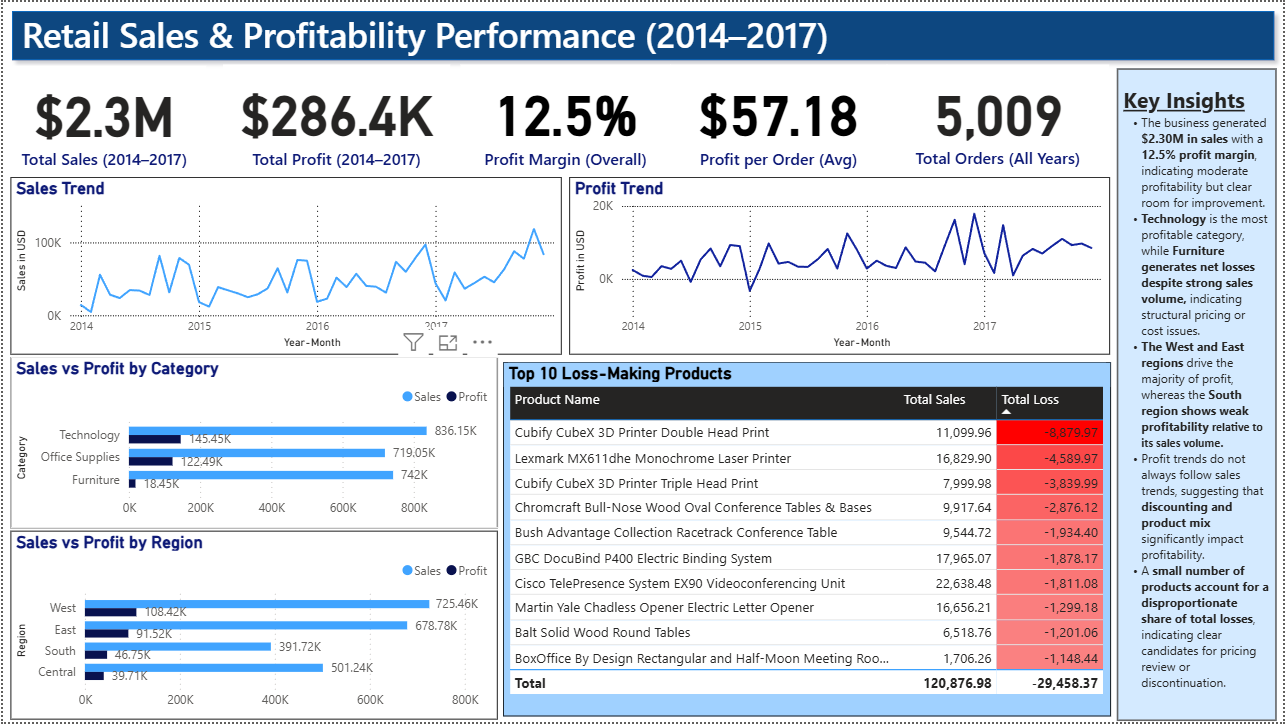

What the dashboard file says about the page in this screenshot:
{"tool":"powerbi","page":{"name":"Page 1","canvas":[1280,720],"ordinal":0},"visuals":[{"type":"shape","box":[0,0,1280.3,67.3],"z":0},{"type":"card","title":"Total Sales (USD)","fields":{"Values":["sales.Total Sales"]},"box":[0,63.6,203,110.1],"z":1000},{"type":"card","fields":{"Values":["sales.Order Count"]},"box":[884.1,62.4,222.6,110.1],"z":2000},{"type":"card","fields":{"Values":["sales.Profit Margin %"]},"box":[457.3,62.4,210.3,111.3],"z":3000},{"type":"card","fields":{"Values":["sales.Total Profit"]},"box":[220.1,62.4,227.4,111.3],"z":4000},{"type":"lineChart","title":"Sales Trend","fields":{"Category":["monthly_performance.order_month"],"Y":["Sum(monthly_performance.total_sales)"]},"box":[7.3,174.9,551.5,177.3],"z":5000},{"type":"clusteredBarChart","title":"Sales vs Profit by Category","fields":{"Category":["sales.category"],"Y":["sales.Total Sales","sales.Total Profit"]},"box":[6.9,355.6,487.5,170.8],"z":6000},{"type":"clusteredBarChart","title":"Sales vs Profit by Region","fields":{"Category":["sales.region"],"Y":["sales.Total Sales","sales.Total Profit"]},"box":[6.9,529.2,487.5,188.9],"z":7000},{"type":"tableEx","title":"Top 10 Loss-Making Products ","fields":{"Values":["sales.product_name","sales.Total Sales","sales.Total Profit"]},"box":[500,359.7,608.3,354.2],"z":8000},{"type":"textbox","box":[1113.9,66.7,159.7,652.8],"z":9000},{"type":"lineChart","title":"Profit Trend","fields":{"Category":["monthly_performance.order_month"],"Y":["Sum(monthly_performance.total_profit)"]},"box":[566.2,174.9,540.5,177.3],"z":10000},{"type":"card","fields":{"Values":["monthly_performance.Profit per Order"]},"box":[667.7,62.4,216.4,111.3],"z":10001}]}

Visuals, with their boxes in screenshot pixels (x1, y1, x2, y2), scaled from the page's 1280x720 canvas onto the 1287x724 screenshot:
shape: bbox=[0, 0, 1286, 68]
"Total Sales (USD)" card: bbox=[0, 64, 204, 175]
card - sales.Order Count: bbox=[889, 63, 1113, 173]
card - sales.Profit Margin %: bbox=[460, 63, 671, 175]
card - sales.Total Profit: bbox=[221, 63, 450, 175]
"Sales Trend" lineChart: bbox=[7, 176, 562, 354]
"Sales vs Profit by Category" clusteredBarChart: bbox=[7, 358, 497, 529]
"Sales vs Profit by Region" clusteredBarChart: bbox=[7, 532, 497, 722]
"Top 10 Loss-Making Products " tableEx: bbox=[503, 362, 1114, 718]
textbox: bbox=[1120, 67, 1281, 723]
"Profit Trend" lineChart: bbox=[569, 176, 1113, 354]
card - monthly_performance.Profit per Order: bbox=[671, 63, 889, 175]
